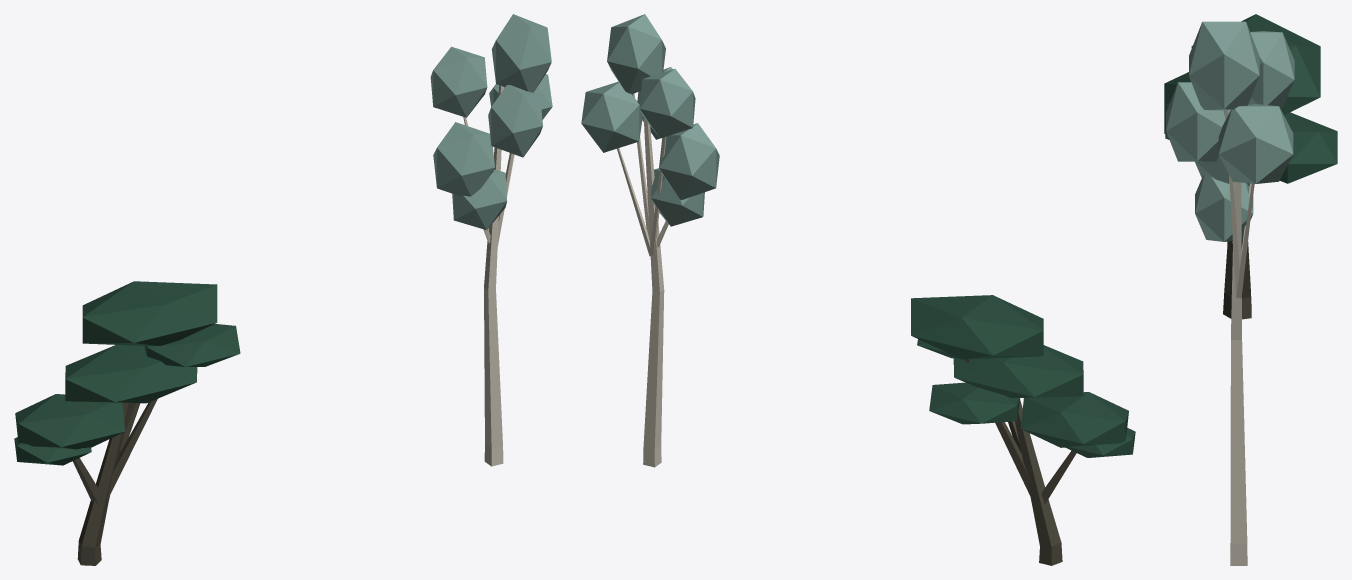
The model's file is sf-identity.glb.
3 views of the same model, side by side, from view 1: azimuth 30°, elevation 25°; view 2: azimuth 150°, elevation 25°; view 3: azimuth 270°, elevation 25° (orthographic). The views are drawn at different scales.
Parts seen in each view (by area): view 1: sf_cypress_body, sf_eucalyptus_body; view 2: sf_cypress_body, sf_eucalyptus_body; view 3: sf_eucalyptus_body, sf_cypress_body.
Part boxes in pixels (left/top/right/bottom): sf_cypress_body: left=14, top=281, right=240, bottom=565; sf_eucalyptus_body: left=430, top=14, right=552, bottom=466; sf_cypress_body: left=911, top=295, right=1135, bottom=565; sf_eucalyptus_body: left=581, top=14, right=719, bottom=467; sf_eucalyptus_body: left=1166, top=21, right=1294, bottom=565; sf_cypress_body: left=1164, top=14, right=1337, bottom=319.
Size of the model in its own units: 32.24 by 25 by 7.09.
